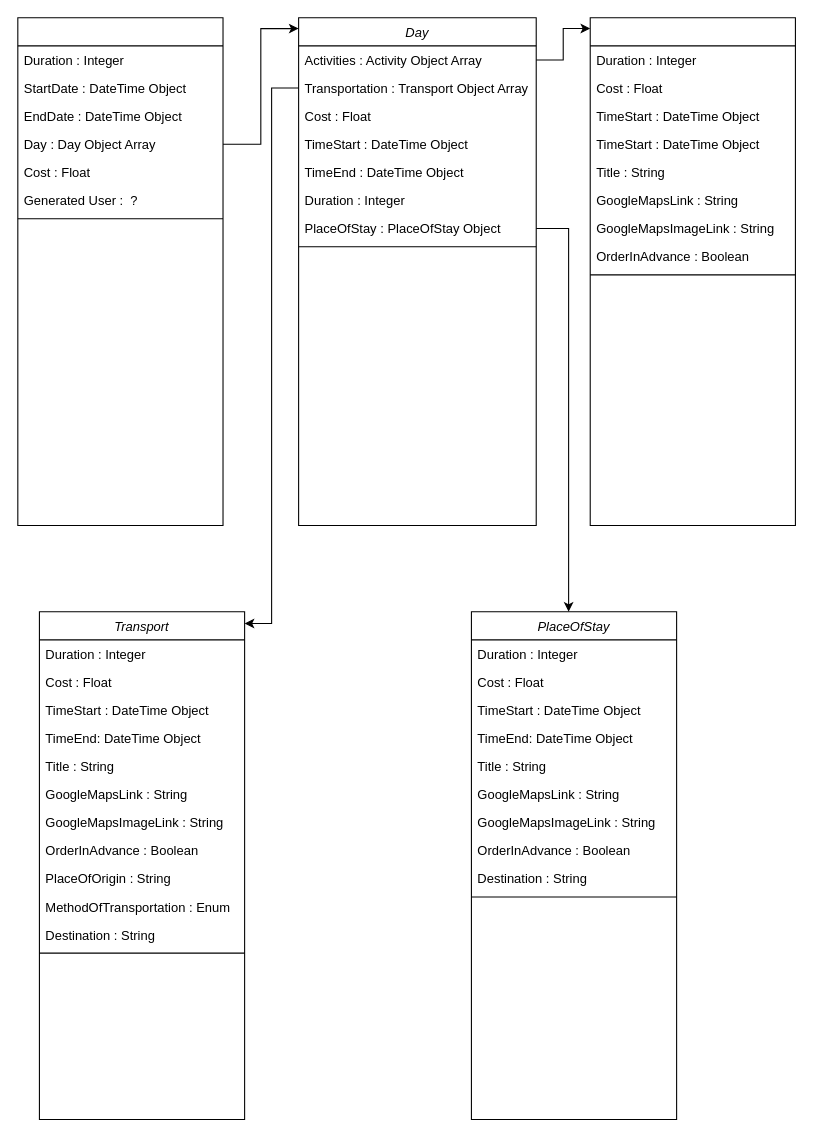
Some shapes in this 813 by 1137 pixel diagram are drawn without their labels. Here are the shapes that lost their labels. From the top down, the box of each, then its label:
(17, 17, 223, 525): Trip
(589, 17, 795, 525): Activity
